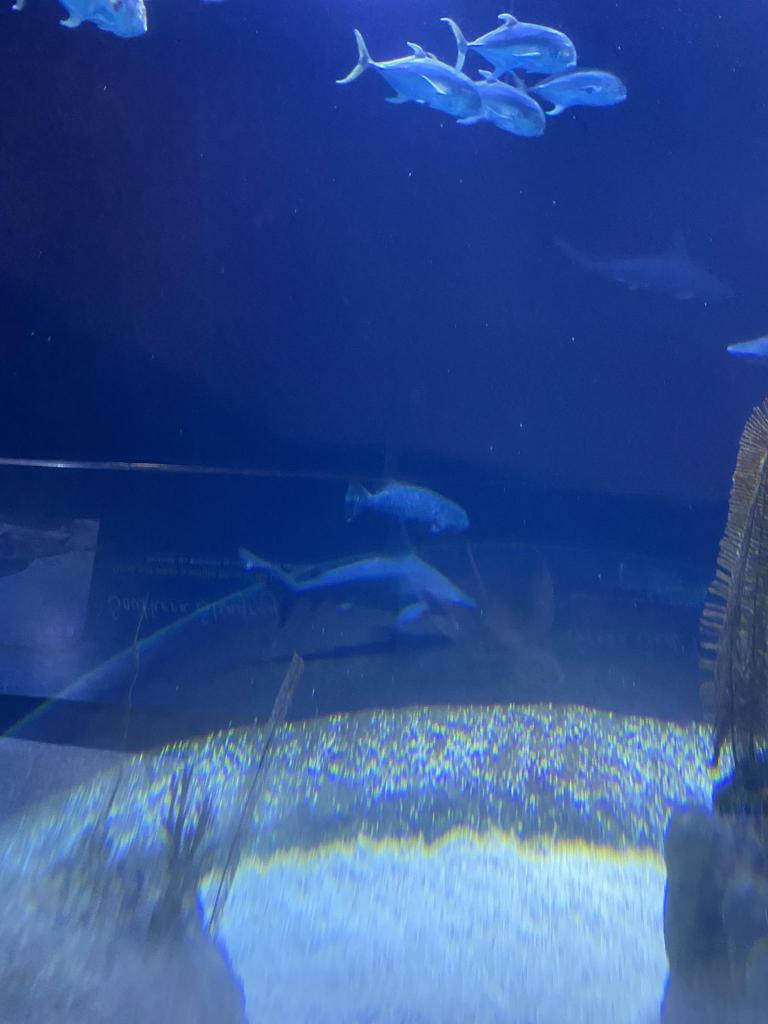fish: (342, 30, 480, 116), (446, 18, 580, 76), (348, 474, 472, 536), (6, 0, 161, 47), (459, 68, 545, 146), (526, 60, 632, 112)
shark: (228, 533, 502, 639), (548, 234, 724, 310)
